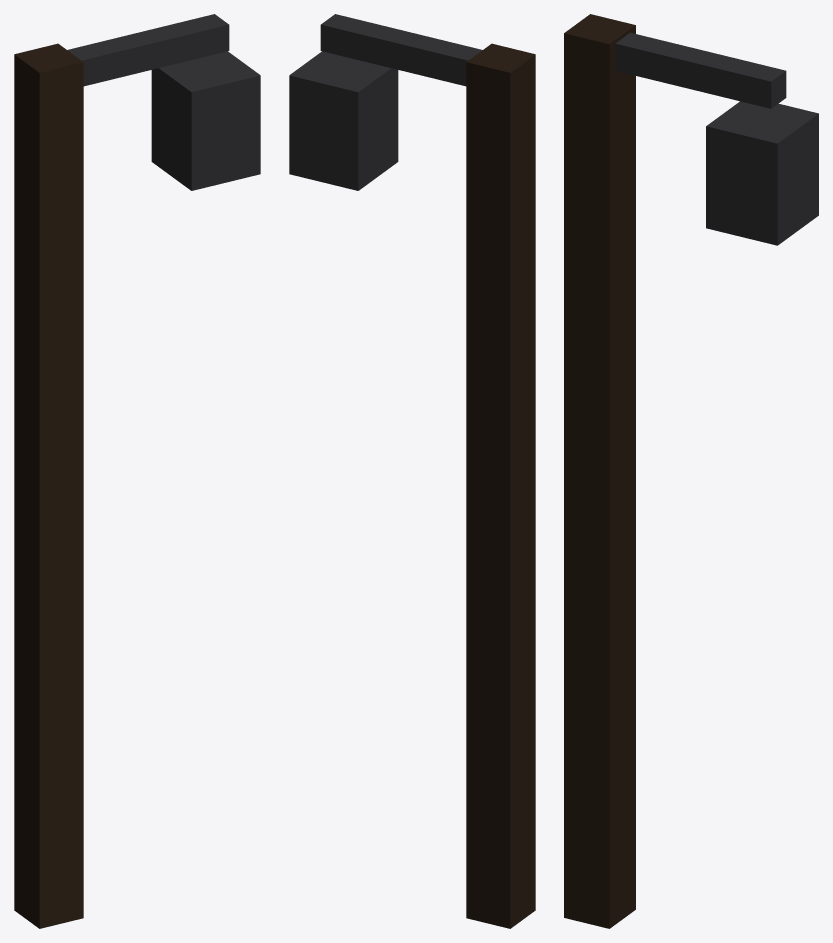
File: lamp_post.fbx
3 renders of one model, left to right at view 1: azimuth 30°, elevation 25°; view 2: azimuth 150°, elevation 25°; view 3: azimuth 330°, elevation 25°, orthographic. The views are drawn at different scales.
Visible parts, largest first — view 1: LampPost; view 2: LampPost; view 3: LampPost.
Part boxes in pixels (x1,y1,x2,y2): LampPost: (14, 14, 260, 928); LampPost: (289, 14, 535, 928); LampPost: (564, 14, 818, 928).
Size of the model in its own units: 0.68 by 2.6 by 0.22.
